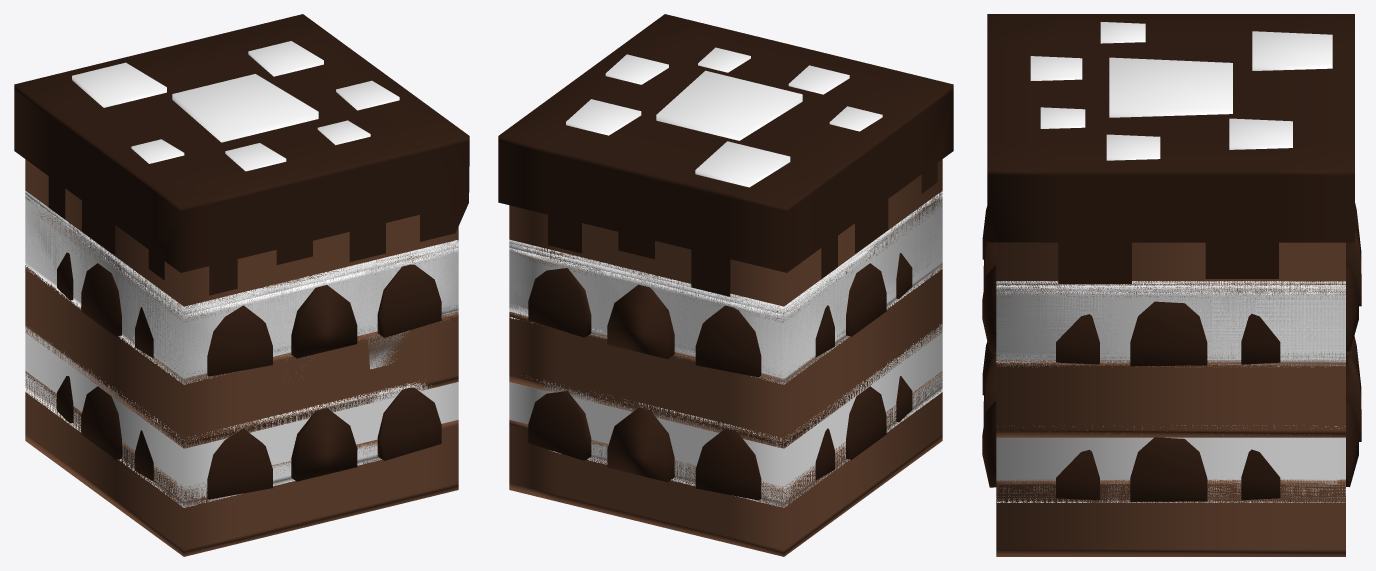
File: choco_cake.glb
3 renders of one model, left to right at view 1: azimuth 30°, elevation 25°; view 2: azimuth 150°, elevation 25°; view 3: azimuth 270°, elevation 25°, orthographic. The views are drawn at different scales.
Visible parts, largest first — view 1: frosting, Cube, Cube.023, Cube.013, Cube.001, Cube.004, Cube.003, top, strawberry, Cube.012, Cube.022, Cube.024 (+14 smaller); view 2: frosting, Cube, Cube.023, Cube.013, Cube.001, Cube.003, Cube.004, top, strawberry, Cube.012, Cube.010, Cube.020 (+14 smaller); view 3: frosting, Cube, Cube.023, Cube.001, top, Cube.013, strawberry, Cube.003, Cube.012, Cube.026, Cube.004, Cube.025 (+12 smaller).
Boxes of the visible parts, <box> form: frosting: <box>14,14,469,295</box>; Cube: <box>25,265,458,448</box>; Cube.023: <box>25,371,458,556</box>; Cube.013: <box>25,325,458,507</box>; Cube.001: <box>25,213,458,384</box>; Cube.004: <box>25,191,458,373</box>; Cube.003: <box>25,159,458,321</box>; top: <box>25,194,458,377</box>; strawberry: <box>291,285,357,481</box>; Cube.012: <box>172,74,318,142</box>; Cube.022: <box>377,387,441,460</box>; Cube.024: <box>377,264,441,337</box>; frosting: <box>498,14,953,296</box>; Cube: <box>509,263,942,448</box>; Cube.023: <box>509,371,942,556</box>; Cube.013: <box>509,324,942,507</box>; Cube.001: <box>509,216,942,384</box>; Cube.003: <box>509,159,942,322</box>; Cube.004: <box>509,191,942,372</box>; top: <box>509,194,942,379</box>; strawberry: <box>607,284,674,482</box>; Cube.012: <box>656,70,802,140</box>; Cube.010: <box>695,305,761,377</box>; Cube.020: <box>695,428,761,500</box>; frosting: <box>987,14,1354,283</box>; Cube: <box>996,360,1345,437</box>; Cube.023: <box>996,479,1345,556</box>; Cube.001: <box>996,290,1345,367</box>; top: <box>996,285,1345,362</box>; Cube.013: <box>996,425,1345,502</box>; strawberry: <box>983,225,1361,501</box>; Cube.003: <box>996,242,1345,299</box>; Cube.012: <box>1109,57,1232,117</box>; Cube.026: <box>1252,31,1332,70</box>; Cube.004: <box>996,281,1345,358</box>; Cube.025: <box>1229,118,1292,149</box>.
Bounding box in the file's own units: 2.1 × 2.52 × 2.17.
